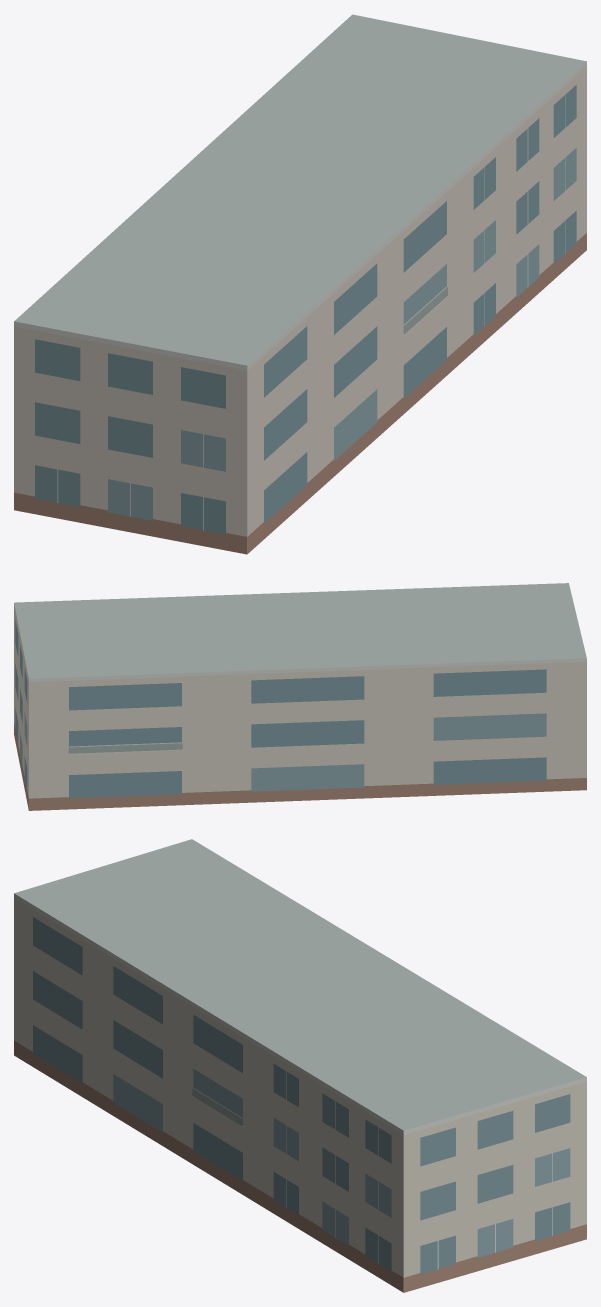
The model's file is survey-upis-33001782.glb.
3 renders of one model, top to bottom at view 1: azimuth 30°, elevation 25°; view 2: azimuth 150°, elevation 25°; view 3: azimuth 270°, elevation 25°, orthographic. The views are drawn at different scales.
Visible parts, largest first — view 1: survey-upis-33001782.tmp; view 2: survey-upis-33001782.tmp; view 3: survey-upis-33001782.tmp.
Boxes of the visible parts, left/top/right/bottom form: survey-upis-33001782.tmp: left=14, top=14, right=586, bottom=554; survey-upis-33001782.tmp: left=14, top=583, right=586, bottom=810; survey-upis-33001782.tmp: left=14, top=839, right=586, bottom=1292.
Bounding box in the file's own units: 35.31 × 9.15 × 29.31.
